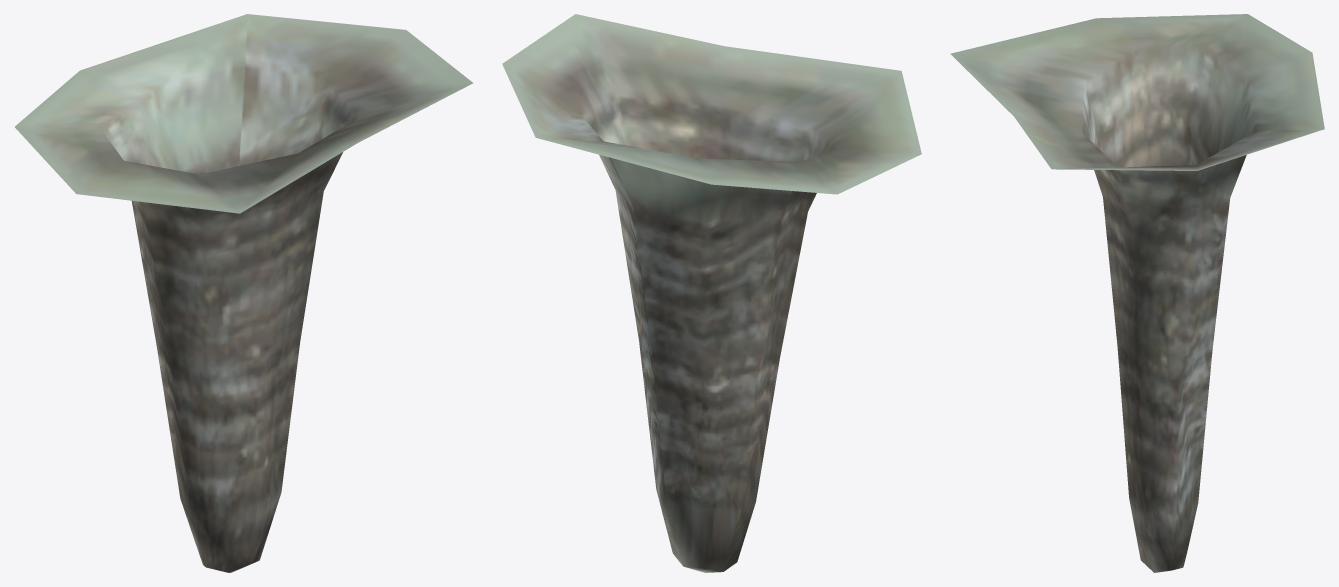
File: TROLLHOLE02_PS-MAINSTALAG73.fbx
3 views of the same model, side by side, from view 1: azimuth 30°, elevation 25°; view 2: azimuth 150°, elevation 25°; view 3: azimuth 270°, elevation 25° (orthographic). The views are drawn at different scales.
Parts seen in each view (by area): view 1: TROLLHOLE02_PS-MAINSTALAG73; view 2: TROLLHOLE02_PS-MAINSTALAG73; view 3: TROLLHOLE02_PS-MAINSTALAG73.
Boxes of the visible parts, bbox=[...] form: TROLLHOLE02_PS-MAINSTALAG73: bbox=[15, 14, 473, 572]; TROLLHOLE02_PS-MAINSTALAG73: bbox=[502, 14, 921, 572]; TROLLHOLE02_PS-MAINSTALAG73: bbox=[950, 14, 1324, 572].
Bounding box in the file's own units: 21461 × 26214 × 17947.
1 material, 1 textured.
